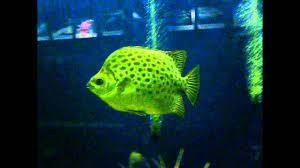Scat Fish: (88, 46, 202, 118)
